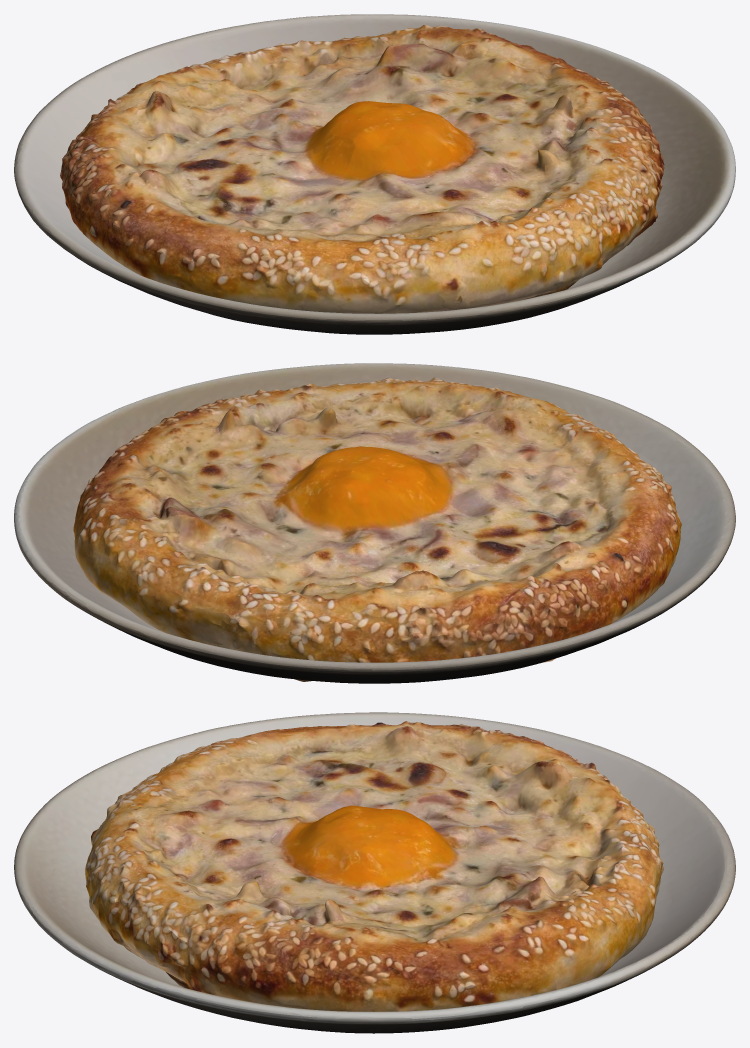
File: set.Carbonara.001.glb
3 views of the same model, one above another, from view 1: azimuth 30°, elevation 25°; view 2: azimuth 150°, elevation 25°; view 3: azimuth 270°, elevation 25° (orthographic).
Parts seen in each view (by area): view 1: /Root/Scenes/Scene/Object_37/Object_38/Submesh_0, /Root/Scenes/Scene/Object_37/Object_41/Object_42/Submesh_0; view 2: /Root/Scenes/Scene/Object_37/Object_38/Submesh_0, /Root/Scenes/Scene/Object_37/Object_41/Object_42/Submesh_0; view 3: /Root/Scenes/Scene/Object_37/Object_38/Submesh_0, /Root/Scenes/Scene/Object_37/Object_41/Object_42/Submesh_0.
Part boxes in pixels (<box>): /Root/Scenes/Scene/Object_37/Object_38/Submesh_0: <box>60,25,664,313</box>; /Root/Scenes/Scene/Object_37/Object_41/Object_42/Submesh_0: <box>14,14,735,334</box>; /Root/Scenes/Scene/Object_37/Object_38/Submesh_0: <box>73,377,681,681</box>; /Root/Scenes/Scene/Object_37/Object_41/Object_42/Submesh_0: <box>14,363,735,683</box>; /Root/Scenes/Scene/Object_37/Object_38/Submesh_0: <box>85,721,663,1011</box>; /Root/Scenes/Scene/Object_37/Object_41/Object_42/Submesh_0: <box>14,712,735,1033</box>.
Bounding box in the file's own units: 0.2401 × 0.0411 × 0.2401.
2 materials, 2 textured.
